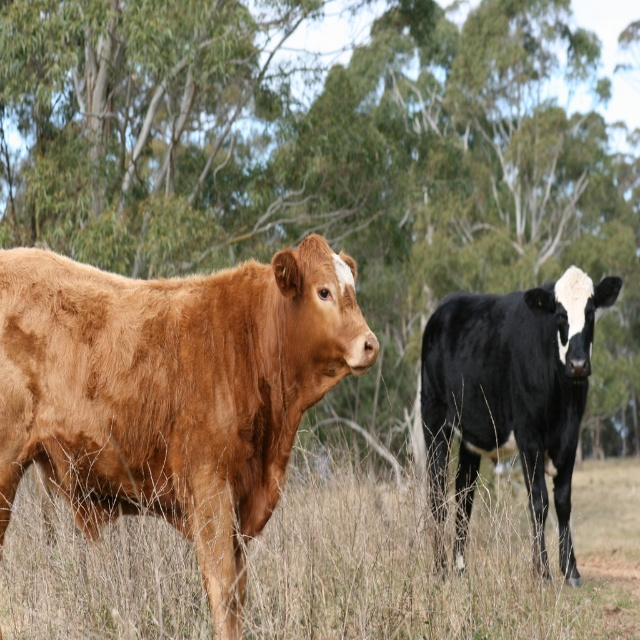Cattle: (0, 233, 380, 640), (420, 265, 623, 590)
